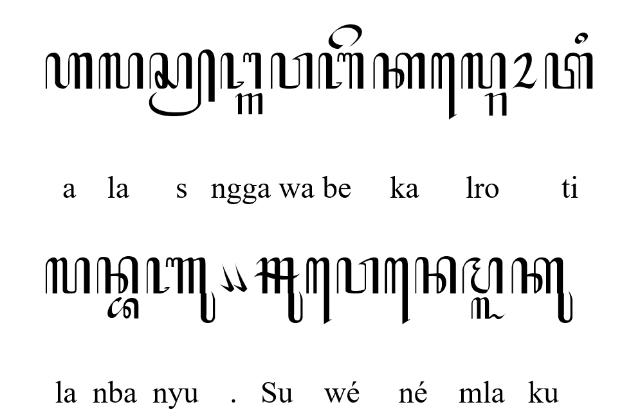-s: (149, 50, 215, 117)
Su: (254, 258, 302, 324)
_b: (107, 297, 139, 319)
_l: (472, 298, 506, 320)
b: (318, 52, 364, 90)
e1: (306, 258, 332, 326), (384, 258, 410, 325), (432, 52, 456, 120), (328, 24, 362, 50)
g: (235, 94, 262, 114)
h: (45, 52, 93, 90)
i: (574, 32, 588, 44)
k: (373, 52, 425, 89)
kom: (220, 263, 234, 293), (233, 264, 247, 292)
ku: (511, 256, 573, 324)
l: (98, 52, 144, 90), (462, 52, 506, 90), (46, 258, 90, 294)
m: (462, 258, 503, 294)
n: (96, 256, 138, 294), (416, 256, 456, 294)
nga: (220, 52, 262, 89)
nyu1: (147, 258, 216, 324)
o: (512, 52, 538, 88)
r: (485, 92, 507, 116)
t: (545, 52, 593, 90)
w: (271, 53, 313, 89), (337, 258, 379, 294)
